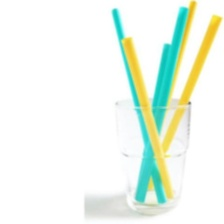drinking_straw: (120, 32, 176, 203)
glass: (112, 96, 195, 218)
